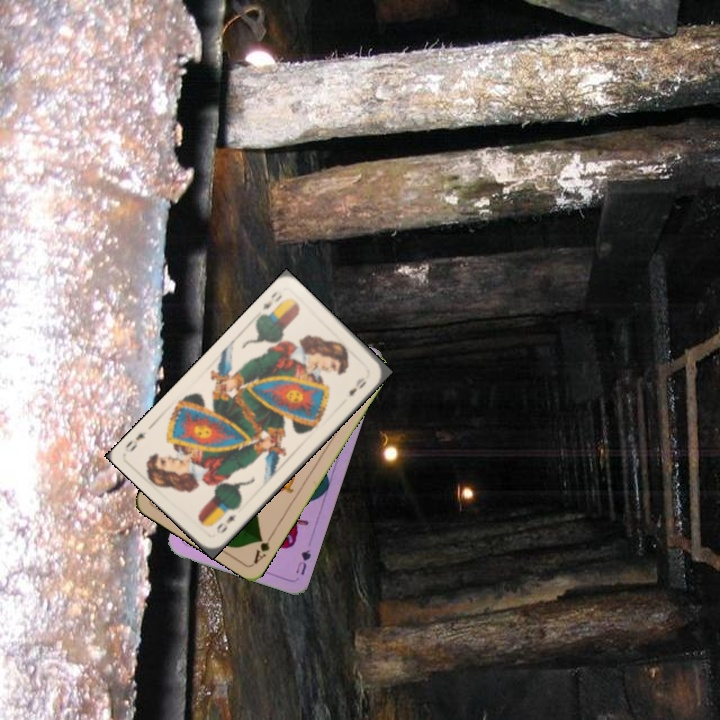EO: (212, 510, 239, 537), (258, 287, 285, 313)
GA: (250, 529, 276, 566)
GU: (291, 545, 313, 578)
